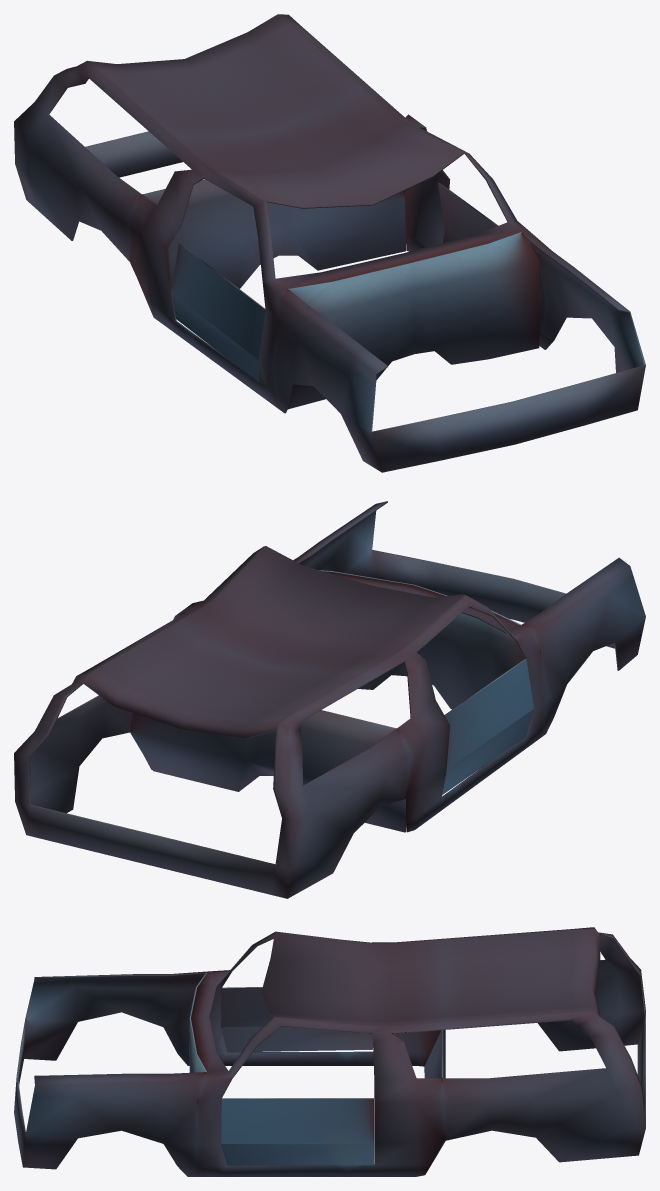
Rendered from Truck2.glb.
The picture shows the model from 3 angles, top to bottom: view 1: azimuth 30°, elevation 25°; view 2: azimuth 150°, elevation 25°; view 3: azimuth 270°, elevation 25°; orthographic projection. The views are drawn at different scales.
Parts seen in each view (by area): view 1: Truck2; view 2: Truck2; view 3: Truck2.
Part boxes in pixels (left/top/right/bottom): Truck2: left=14, top=14, right=645, bottom=472; Truck2: left=14, top=501, right=645, bottom=898; Truck2: left=14, top=927, right=645, bottom=1176.
Size of the model in its own units: 2.24 by 1.31 by 4.96.
Materials: 1 (1 with a texture image).
